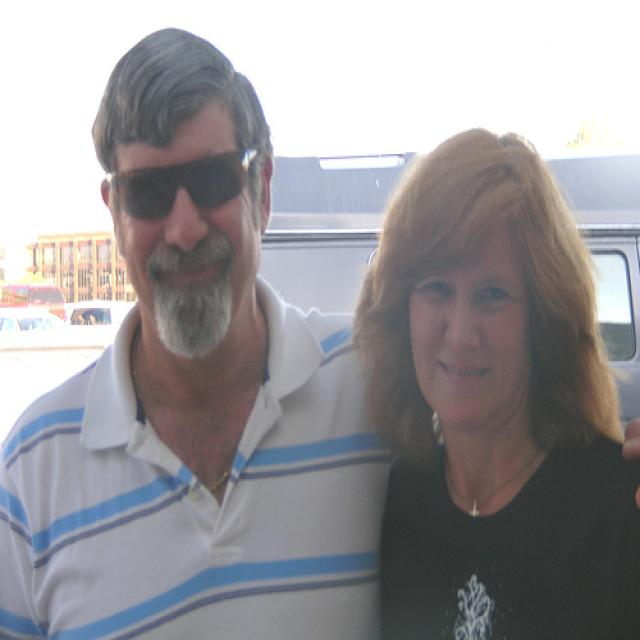person: (1, 26, 414, 639), (357, 126, 640, 639)
